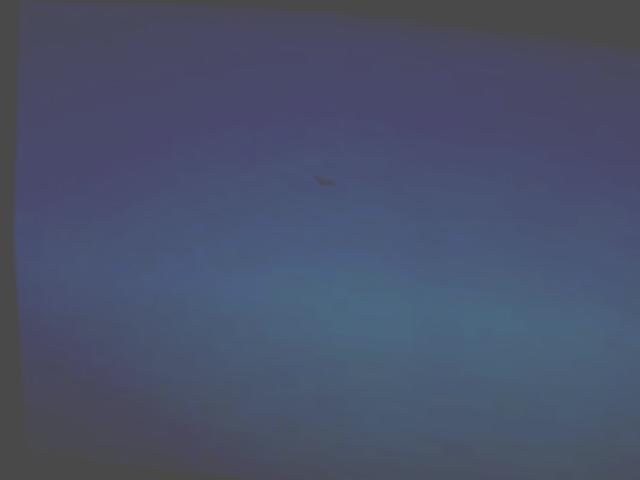iha: (312, 169, 331, 185)
